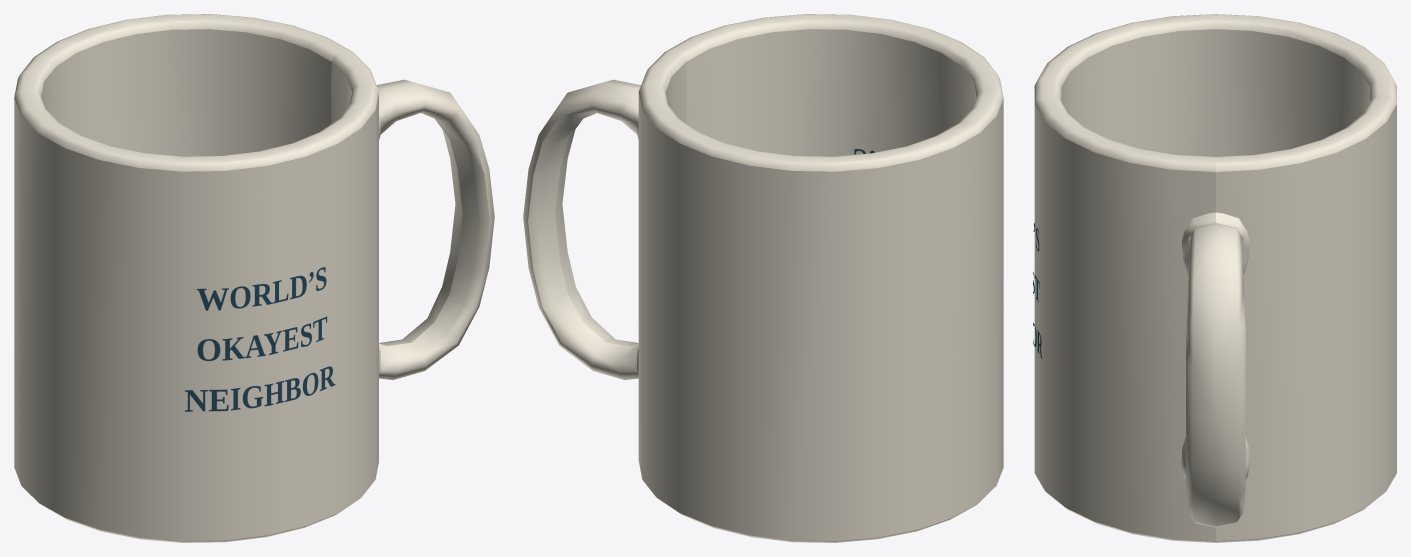
File: cc0-ceramic-neighbor-mug.glb
The picture shows the model from 3 angles, left to right: view 1: azimuth 30°, elevation 25°; view 2: azimuth 150°, elevation 25°; view 3: azimuth 270°, elevation 25°; orthographic projection.
Visible parts, largest first — view 1: mug, neighbor-mug; view 2: mug; view 3: mug.
Boxes of the visible parts, x1,y1,x2,y2 form: mug: [14, 14, 494, 542]; neighbor-mug: [185, 267, 335, 411]; mug: [523, 14, 1003, 542]; mug: [1034, 14, 1396, 542].
Bounding box in the file's own units: 0.1856 × 0.15 × 0.1304.
Materials: 2 (1 with a texture image).
